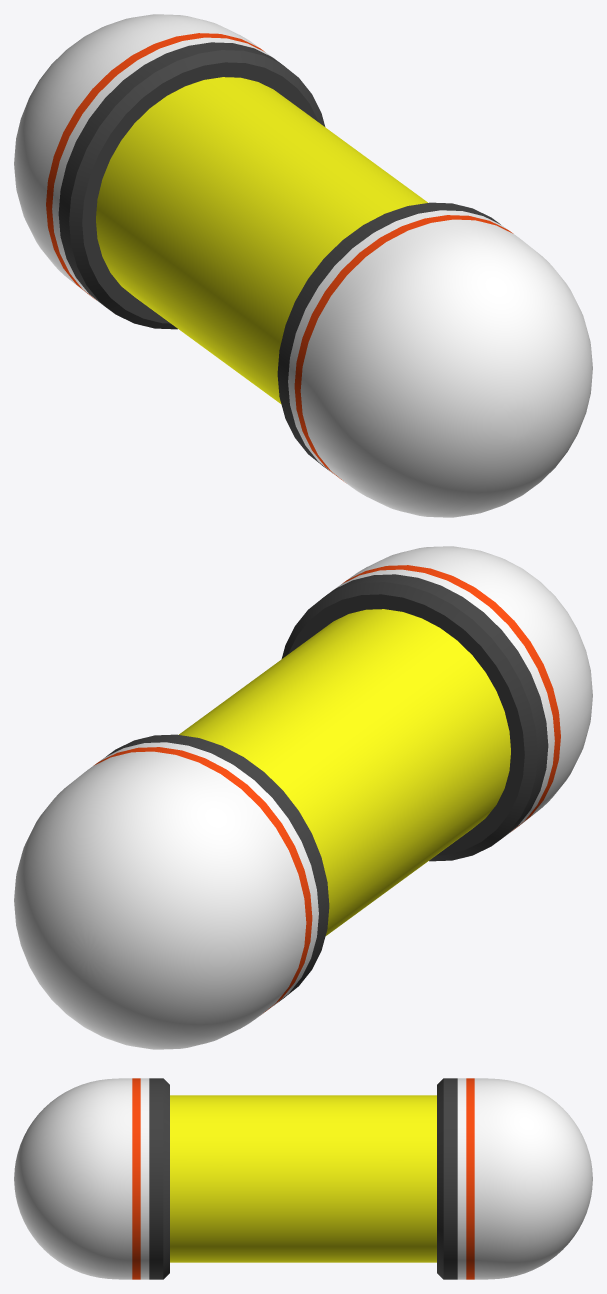
3 views of the same model, one above another, from view 1: azimuth 30°, elevation 25°; view 2: azimuth 150°, elevation 25°; view 3: azimuth 270°, elevation 25° (orthographic). The views are drawn at different scales.
Parts seen in each view (by area): view 1: Capsule; view 2: Capsule; view 3: Capsule.
Boxes of the visible parts, x1,y1,x2,y2 form: Capsule: (14,14,592,517); Capsule: (14,546,592,1049); Capsule: (14,1078,592,1279).
Size of the model in its own units: 0.5929 by 0.5929 by 1.7.
